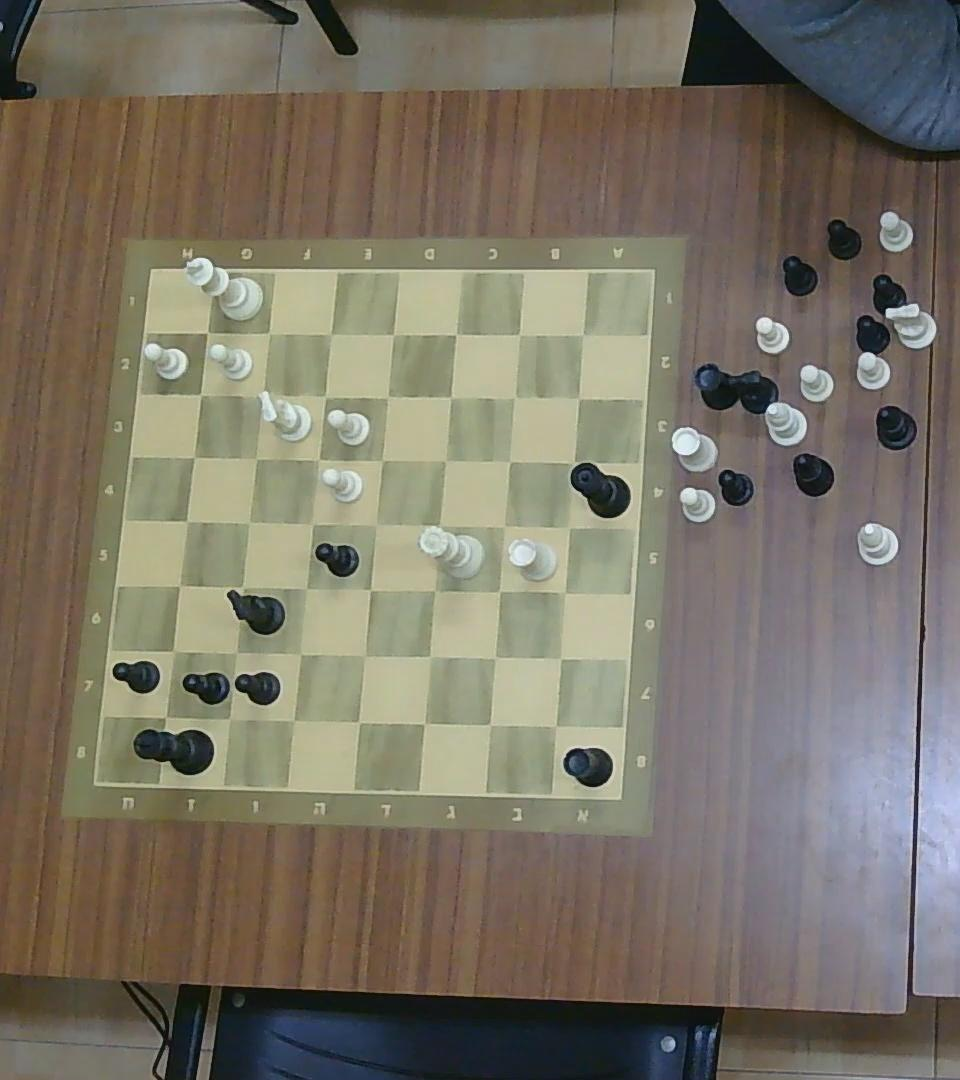xcorner: (542, 713, 569, 740), (279, 706, 305, 734), (215, 705, 241, 732), (411, 710, 437, 737), (477, 710, 503, 737), (153, 702, 179, 728), (352, 641, 377, 668), (379, 320, 404, 347), (486, 578, 511, 605), (417, 642, 442, 669), (547, 644, 572, 671), (369, 447, 394, 473), (167, 572, 192, 598), (425, 513, 450, 539), (287, 639, 311, 666), (346, 709, 371, 734), (481, 645, 506, 670), (558, 448, 583, 473), (375, 383, 399, 409), (237, 508, 261, 534), (421, 577, 445, 603), (491, 513, 515, 539), (174, 507, 198, 532), (223, 640, 247, 665), (358, 576, 382, 601), (552, 579, 576, 604), (294, 576, 318, 601), (229, 574, 253, 599), (196, 319, 219, 345), (162, 638, 185, 664), (257, 319, 280, 345), (557, 514, 581, 538), (188, 381, 212, 405), (318, 321, 341, 346), (182, 445, 205, 469), (438, 384, 461, 408), (300, 512, 323, 536), (364, 512, 387, 536), (570, 322, 594, 345), (250, 381, 273, 405), (433, 448, 455, 473), (444, 322, 467, 345), (306, 447, 329, 470), (566, 386, 589, 409), (508, 322, 531, 345), (245, 445, 267, 469), (498, 448, 520, 472), (313, 384, 335, 408), (503, 386, 525, 409)
